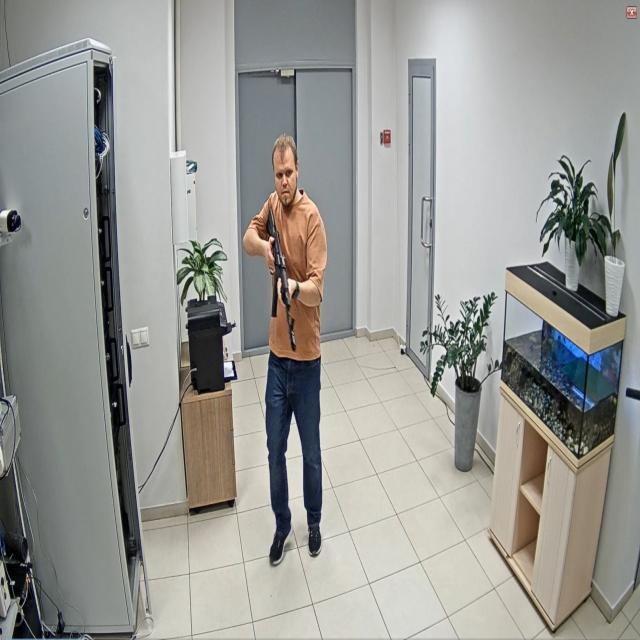-Gun: (267, 209, 296, 351)
